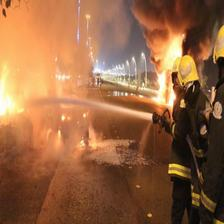fire: (132, 5, 198, 63), (1, 30, 25, 129), (39, 119, 97, 152), (156, 31, 178, 105)
